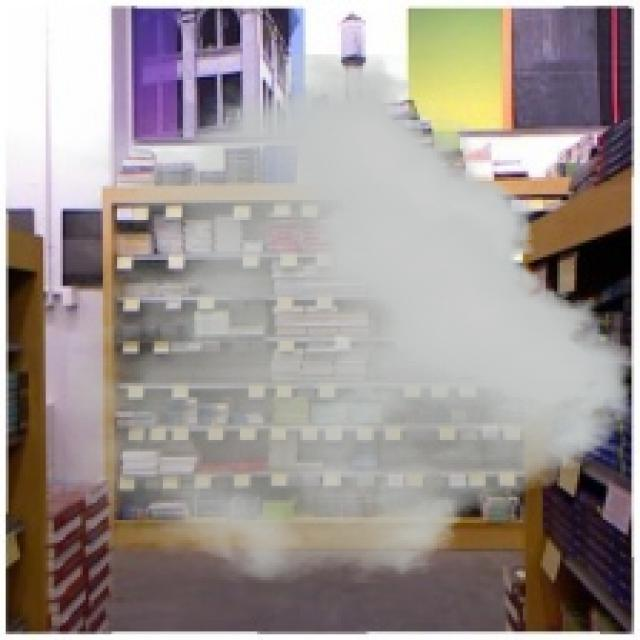smoke: (66, 54, 631, 583)
